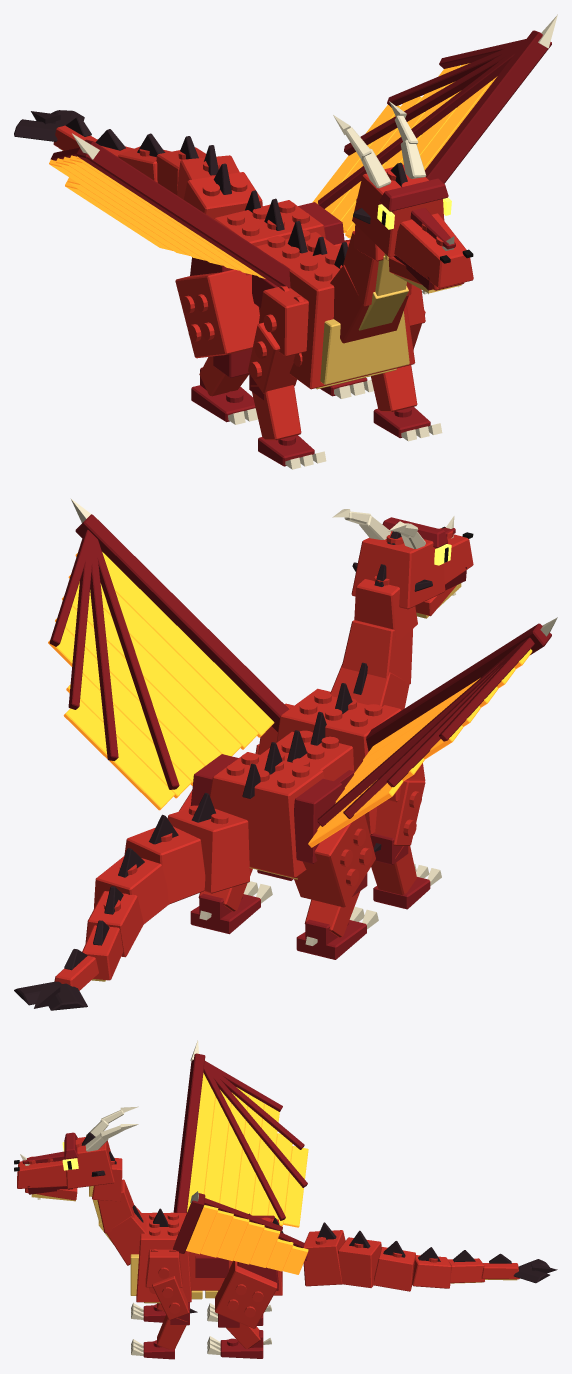
3 renders of one model, top to bottom at view 1: azimuth 30°, elevation 25°; view 2: azimuth 150°, elevation 25°; view 3: azimuth 270°, elevation 25°, orthographic. The views are drawn at different scales.
Parts seen in each view (by area): view 1: Body__Body, WingR__WingBone, LegBL__Body, Head__Body, WingL__Membrane, Body__Belly, WingL__WingBone, WingR__Membrane, LegFL__Body, Head__Bone, Tail1__Body, LegBL__Patch (+10 smaller); view 2: WingR__Membrane, Body__Body, WingR__WingBone, WingL__WingBone, LegBL__Body, Head__Body, WingL__Membrane, Tail1__Body, LegFL__Body, Tail2__Body, Body__Patch, Tail3__Body (+11 smaller); view 3: WingL__Membrane, Body__Body, WingL__WingBone, WingR__Membrane, Head__Body, LegBR__Body, Tail1__Body, Tail2__Body, LegFR__Body, WingR__WingBone, Tail3__Body, Body__Patch (+9 smaller).
Part boxes in pixels (x1=…): Body__Body: x1=214, y1=198, x2=425, y2=389; WingR__WingBone: x1=318, y1=30, x2=551, y2=208; LegBL__Body: x1=175, y1=269, x2=259, y2=396; Head__Body: x1=352, y1=164, x2=473, y2=290; WingL__Membrane: x1=49, y1=155, x2=265, y2=278; Body__Belly: x1=316, y1=253, x2=409, y2=389; WingL__WingBone: x1=50, y1=139, x2=290, y2=288; WingR__Membrane: x1=312, y1=63, x2=497, y2=238; LegFL__Body: x1=248, y1=322, x2=301, y2=440; Head__Bone: x1=333, y1=101, x2=459, y2=294; Tail1__Body: x1=183, y1=172, x2=262, y2=219; LegBL__Patch: x1=191, y1=349, x2=255, y2=422; WingR__Membrane: x1=48, y1=552, x2=274, y2=810; Body__Body: x1=210, y1=576, x2=425, y2=877; WingR__WingBone: x1=49, y1=514, x2=289, y2=789; WingL__WingBone: x1=317, y1=623, x2=551, y2=826; LegBL__Body: x1=294, y1=814, x2=375, y2=937; Head__Body: x1=351, y1=528, x2=473, y2=616; WingL__Membrane: x1=308, y1=649, x2=532, y2=847; Tail1__Body: x1=167, y1=805, x2=249, y2=893; LegFL__Body: x1=371, y1=779, x2=425, y2=895; Tail2__Body: x1=124, y1=826, x2=205, y2=904; Body__Patch: x1=190, y1=754, x2=354, y2=863; Tail3__Body: x1=93, y1=855, x2=168, y2=923; WingL__Membrane: x1=187, y1=1073, x2=308, y2=1227; Body__Body: x1=92, y1=1158, x2=282, y2=1302; WingL__WingBone: x1=173, y1=1053, x2=307, y2=1220; WingR__Membrane: x1=186, y1=1205, x2=308, y2=1274; Head__Body: x1=17, y1=1137, x2=114, y2=1200; LegBR__Body: x1=215, y1=1261, x2=277, y2=1348; Tail1__Body: x1=303, y1=1230, x2=345, y2=1286; Tail2__Body: x1=338, y1=1237, x2=381, y2=1287; LegFR__Body: x1=152, y1=1276, x2=189, y2=1349; WingR__WingBone: x1=173, y1=1193, x2=307, y2=1260; Tail3__Body: x1=374, y1=1247, x2=415, y2=1291; Body__Patch: x1=195, y1=1215, x2=278, y2=1290.
Size of the model in its own units: 19.3 by 13.16 by 29.3.
